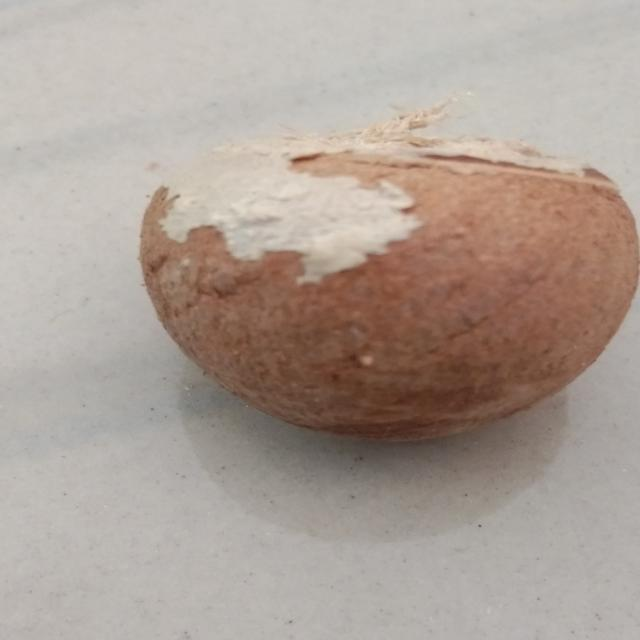good: (116, 96, 640, 464)
